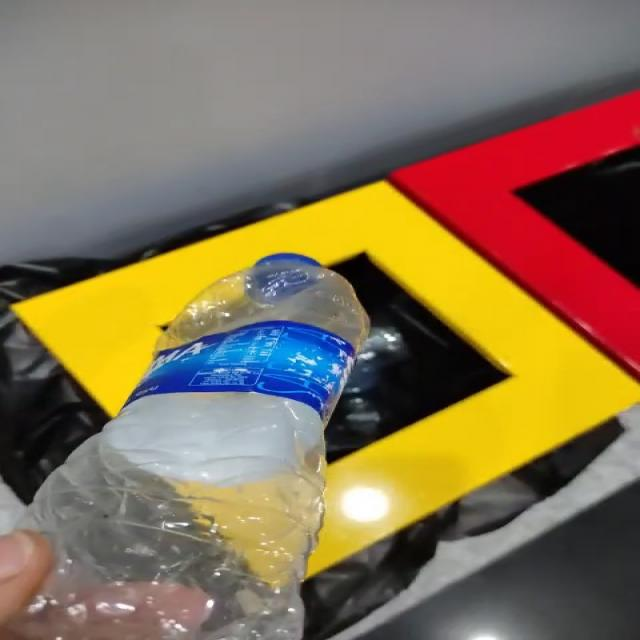plastic: (8, 253, 369, 640)
